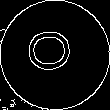O_E: (29, 32, 81, 78)
